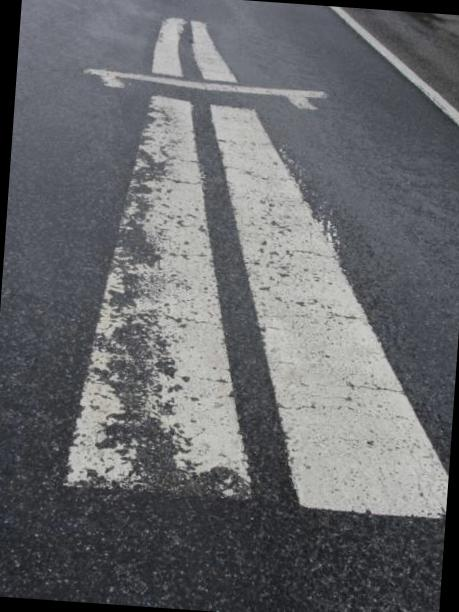faded_road_lines: (177, 94, 459, 527), (67, 78, 284, 507), (65, 57, 340, 118), (139, 0, 195, 84)
